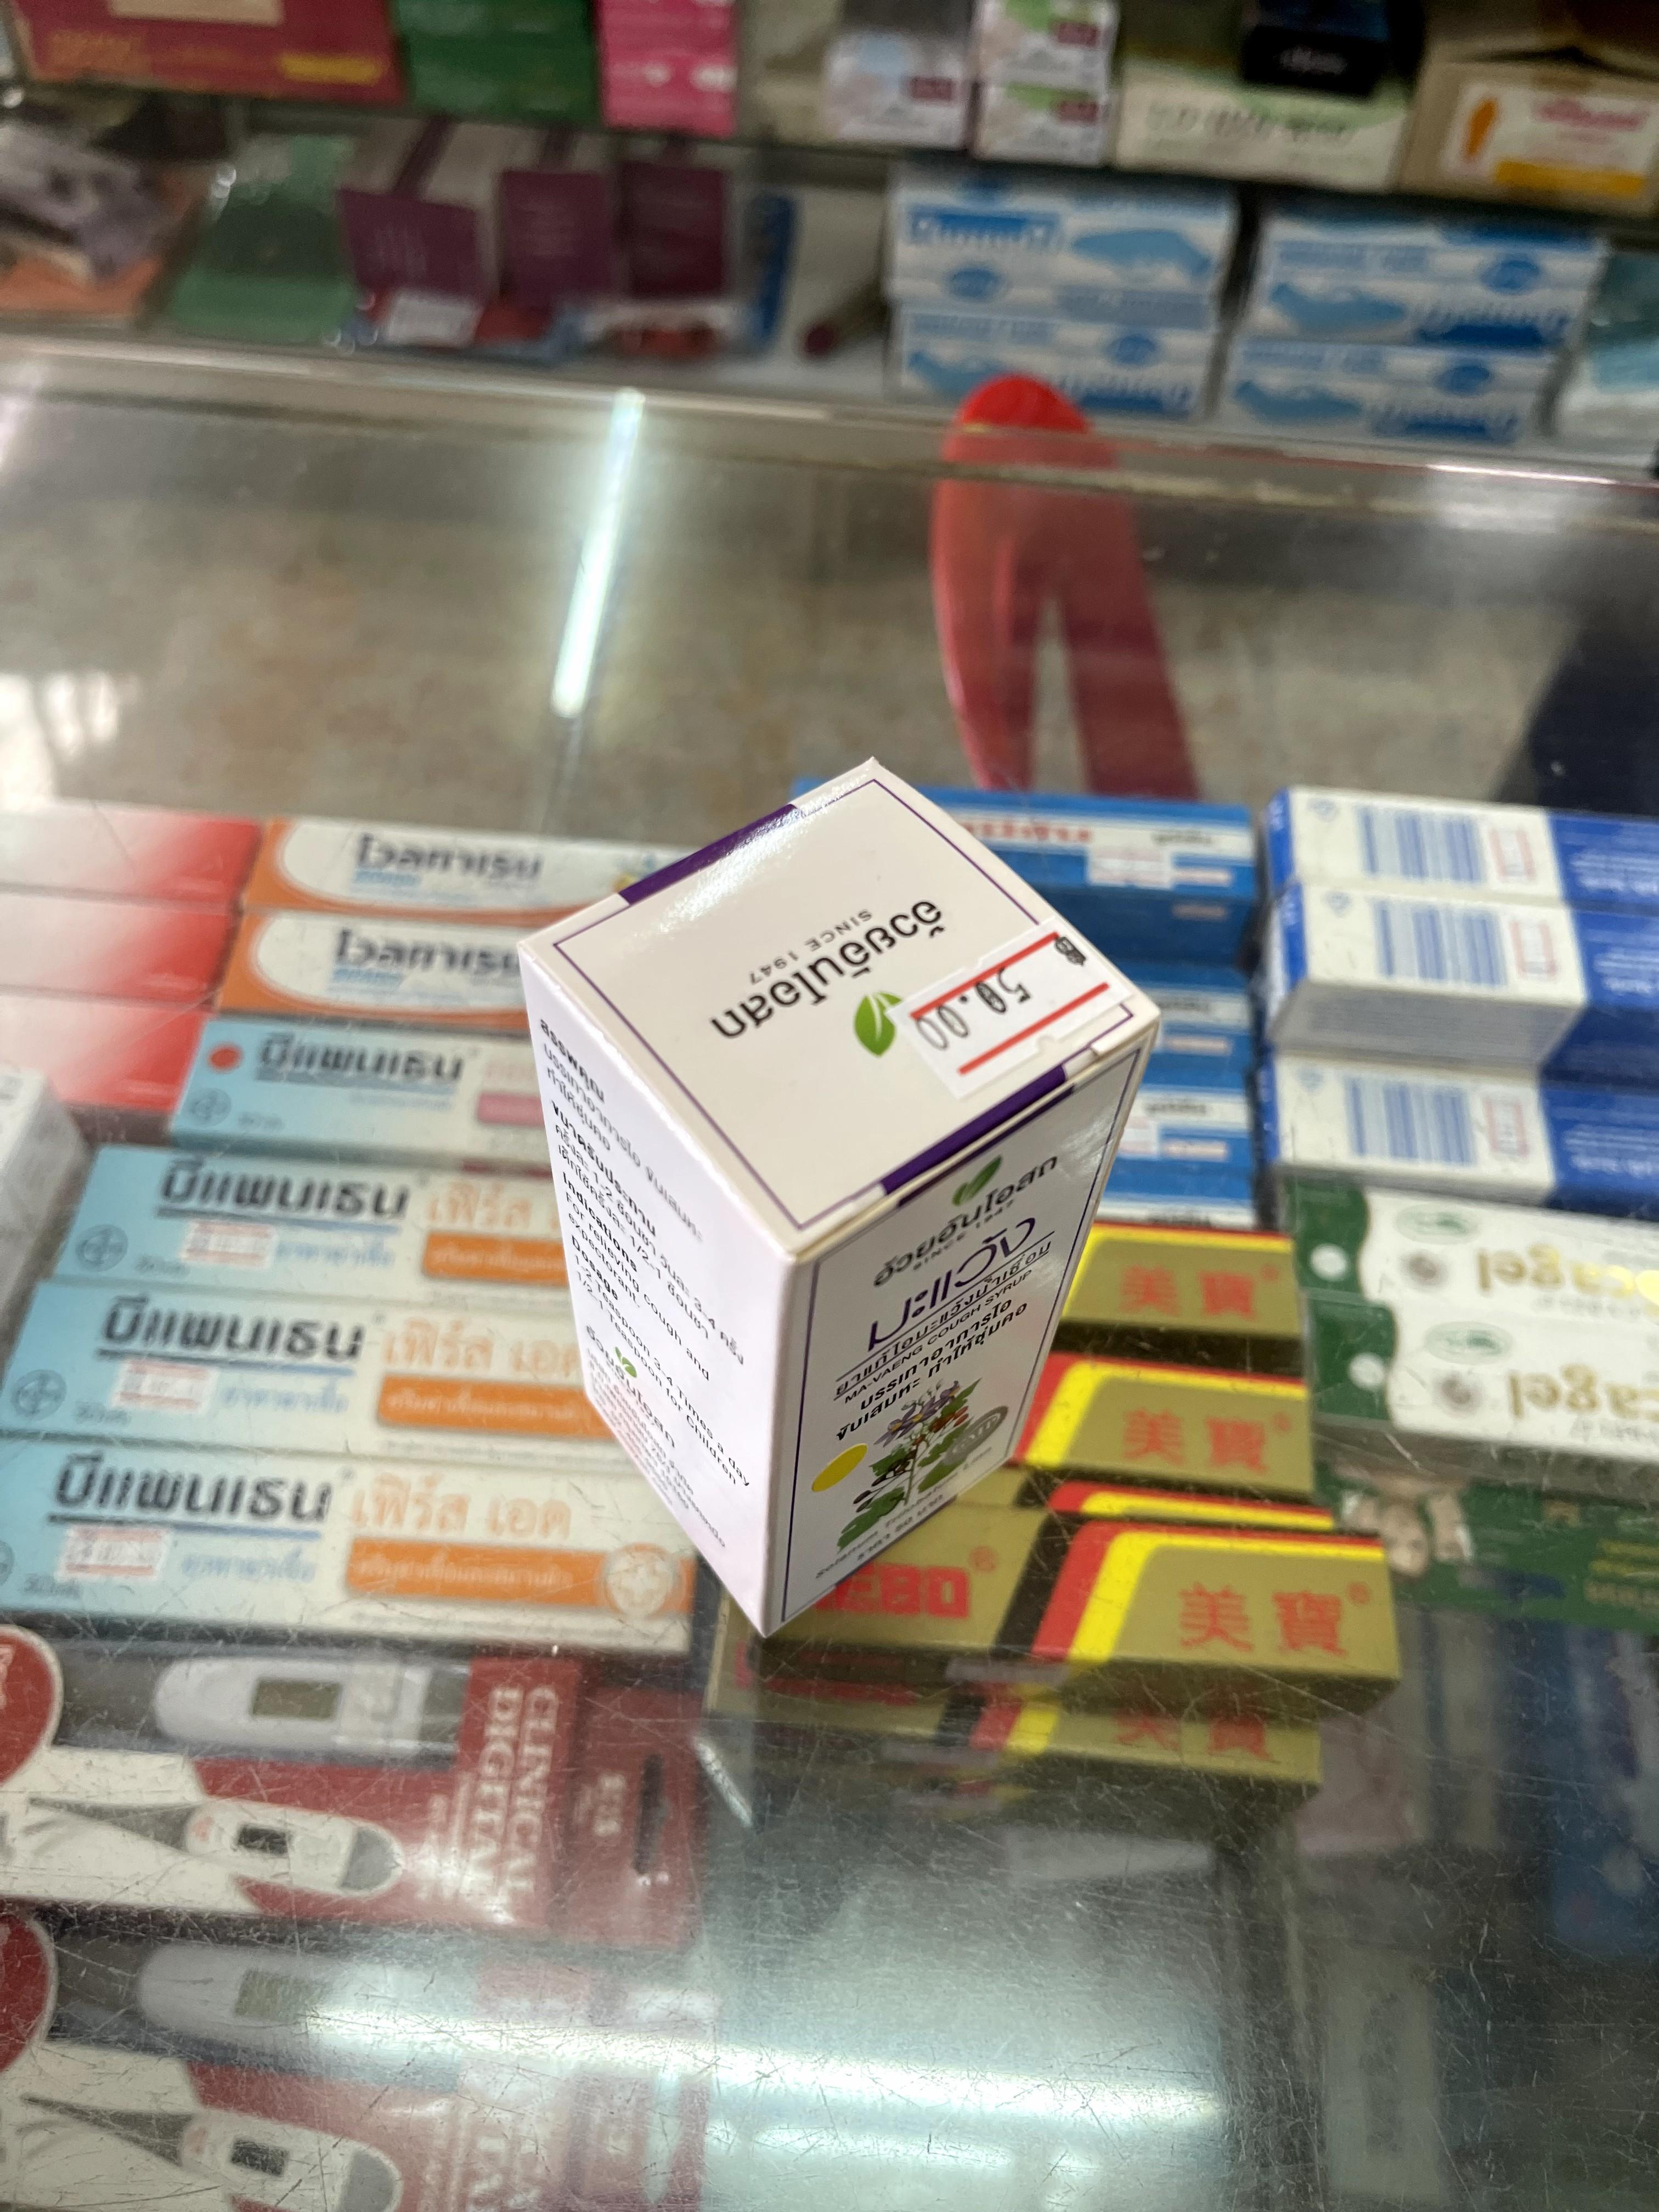Ma-Vaeng_Syrup: (526, 763, 1157, 1637)
